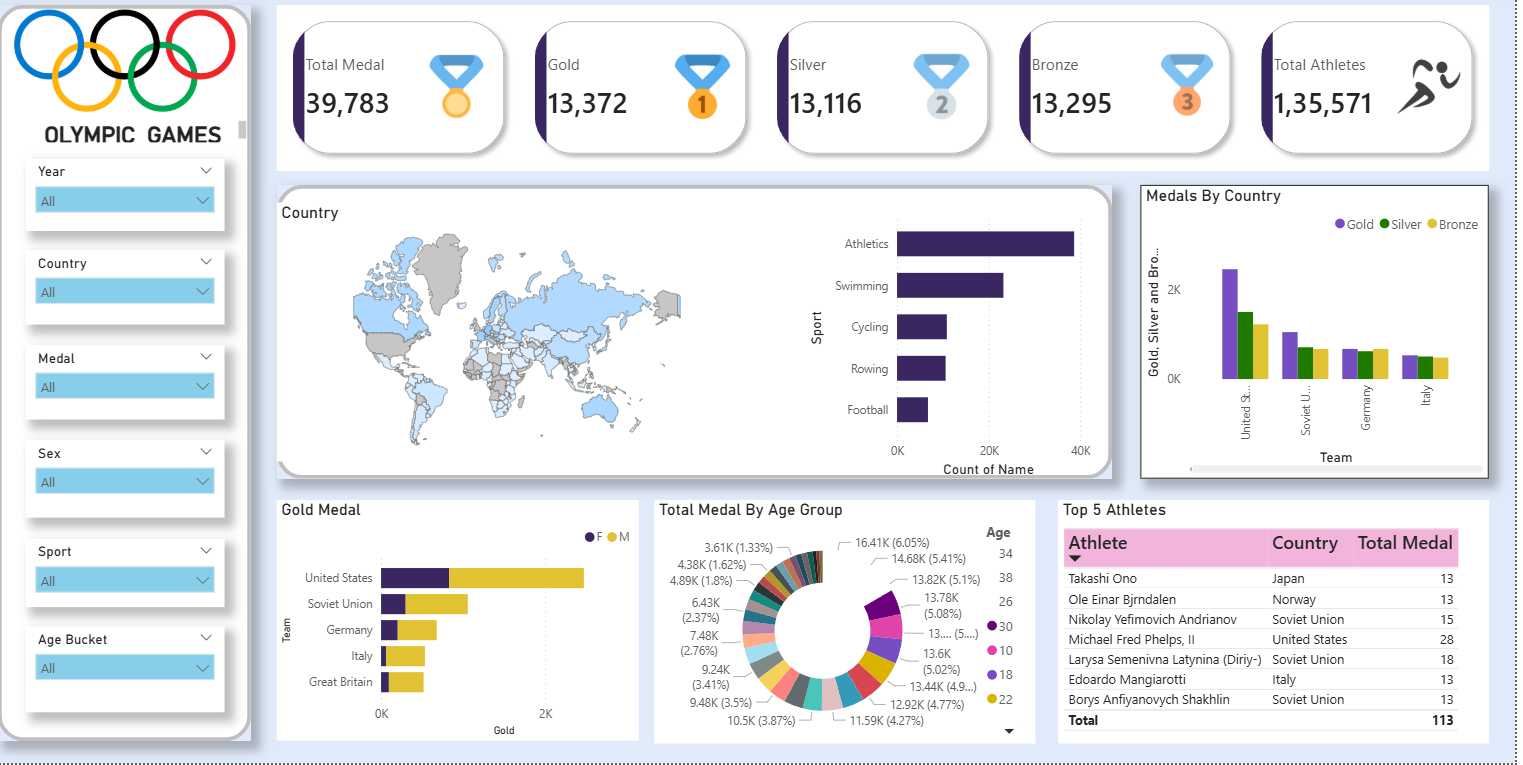

The page's visual inventory and layout, read from the dashboard file:
{"tool":"powerbi","page":{"name":"Page 1","canvas":[1580,800],"ordinal":0},"visuals":[{"type":"shape","box":[290.4,198.3,869.7,306],"z":0},{"type":"cardVisual","fields":{"Data":["Measure_.Total Medal","Measure_.Gold","Measure_.Silver","Measure_.Bronze","Measure_.Total Athletes"]},"box":[290.4,9.9,1262,172.8],"z":1000},{"type":"shapeMap","title":"Country","fields":{"Category":["athlete.Team"],"Value":["CountNonNull(athlete.Medal)"]},"box":[290.7,215.8,500.5,269.7],"z":2000},{"type":"barChart","fields":{"Category":["athlete.Sport"],"Y":["CountNonNull(athlete.Name)"]},"box":[839.2,215.8,302.7,290.7],"z":3000},{"type":"clusteredColumnChart","title":"Medals By Country","fields":{"Category":["athlete.Team"],"Y":["Measure_.Gold","Measure_.Silver","Measure_.Bronze"]},"box":[1189.8,198.3,362.6,306],"z":4000},{"type":"barChart","title":"Gold Medal","fields":{"Category":["athlete.Team"],"Series":["athlete.Sex"],"Y":["Measure_.Gold"]},"box":[290.4,525.5,376.8,250.7],"z":5000},{"type":"columnChart","title":"Total Medal By Age Group","fields":{"Category":["athlete.Age Bucket"],"Y":["CountNonNull(athlete.Name)"]},"box":[682.7,525.5,396.6,253.5],"z":6000},{"type":"tableEx","title":"Top 5 Athletes","fields":{"Values":["athlete.Name","athlete.Team","athlete.Medal"]},"box":[1103.4,525.5,449,253.5],"z":7000},{"type":"shape","box":[0,9.9,263.5,766.3],"z":8000},{"type":"image","box":[0,9.9,263.5,116.1],"z":9000},{"type":"textbox","box":[0,126.1,263.5,32.6],"z":10000},{"type":"slicer","fields":{"Values":["athlete.Team"]},"box":[28.3,266,206.8,77.9],"z":11000},{"type":"slicer","fields":{"Values":["athlete.Year"]},"box":[28.3,170,206.8,75.1],"z":12000},{"type":"slicer","fields":{"Values":["athlete.Medal"]},"box":[28.3,364.9,206.8,77.9],"z":13000},{"type":"slicer","fields":{"Values":["athlete.Sex"]},"box":[28.3,463.7,206.8,80.7],"z":14000},{"type":"slicer","fields":{"Values":["athlete.Sport"]},"box":[28.3,565.4,206.8,70.8],"z":15000},{"type":"slicer","fields":{"Values":["athlete.Age Bucket"]},"box":[28.3,657.2,206.8,89.2],"z":16000}]}

Visuals, with their boxes in screenshot pixels (x1, y1, x2, y2), scaled from the page's 1580x800 canvas onto the 1523x765 screenshot:
shape: box(280, 190, 1118, 482)
cardVisual - Measure_.Total Medal x Measure_.Gold: box(280, 9, 1496, 175)
"Country" shapeMap: box(280, 206, 763, 464)
barChart - athlete.Sport x CountNonNull(athlete.Name): box(809, 206, 1101, 484)
"Medals By Country" clusteredColumnChart: box(1147, 190, 1496, 482)
"Gold Medal" barChart: box(280, 503, 643, 742)
"Total Medal By Age Group" columnChart: box(658, 503, 1040, 745)
"Top 5 Athletes" tableEx: box(1064, 503, 1496, 745)
shape: box(0, 9, 254, 742)
image: box(0, 9, 254, 120)
textbox: box(0, 121, 254, 152)
slicer - athlete.Team: box(27, 254, 227, 329)
slicer - athlete.Year: box(27, 163, 227, 234)
slicer - athlete.Medal: box(27, 349, 227, 423)
slicer - athlete.Sex: box(27, 443, 227, 521)
slicer - athlete.Sport: box(27, 541, 227, 608)
slicer - athlete.Age Bucket: box(27, 628, 227, 714)
